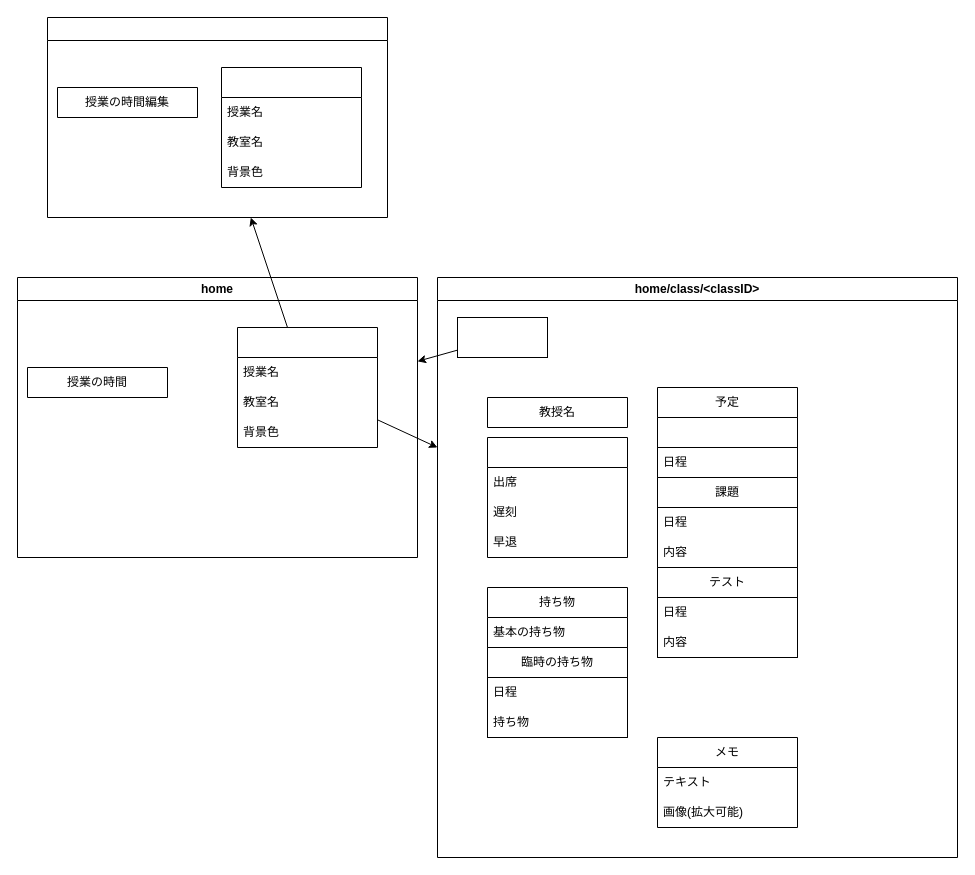
This 975x875 diagram has some shape labels left out. Here are the shapes that lost their labels. From the top down, the box of each, then its label:
(46, 16, 388, 218): home/edit
(220, 66, 362, 188): 時間割のコマ編集
(456, 316, 548, 358): 戻るボタン
(236, 326, 378, 448): 時間割のコマ
(656, 416, 798, 478): 休講
(486, 436, 628, 558): 出席情報
